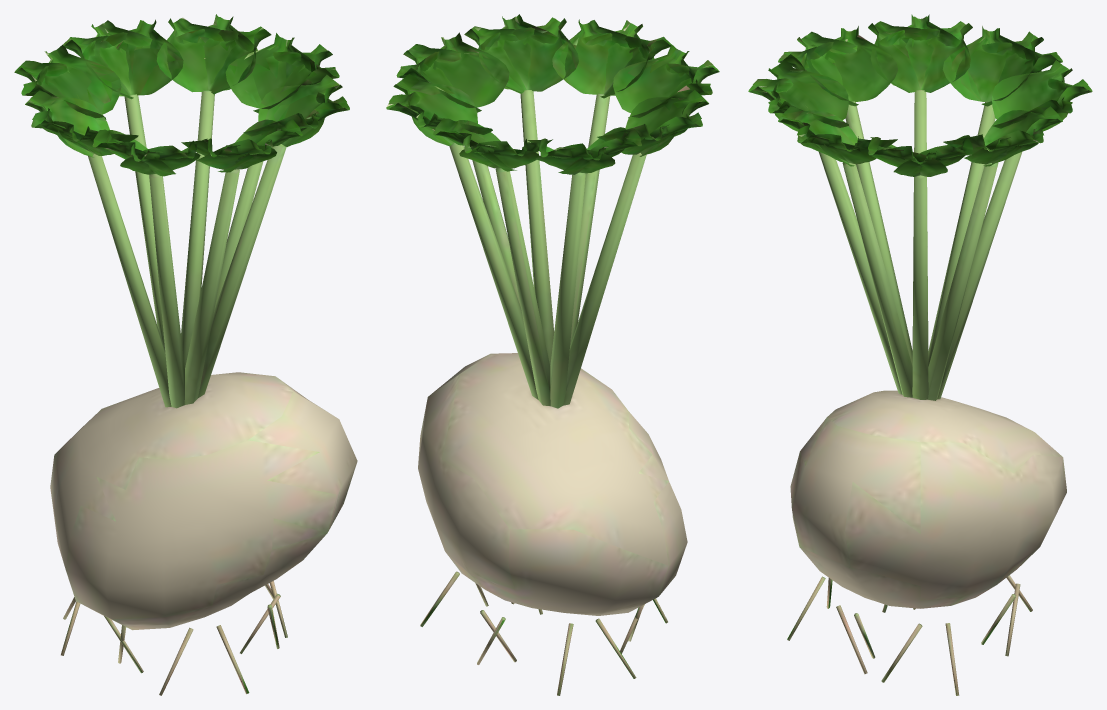
The model's file is crop_celeriac.glb.
3 renders of one model, left to right at view 1: azimuth 30°, elevation 25°; view 2: azimuth 150°, elevation 25°; view 3: azimuth 270°, elevation 25°, orthographic.
Parts seen in each view (by area): view 1: fruit, crop_celeriac; view 2: crop_celeriac, fruit; view 3: crop_celeriac, fruit.
Boxes of the visible parts, left/top/right/bottom form: fruit: left=50, top=372, right=357, bottom=630; crop_celeriac: left=14, top=14, right=349, bottom=695; crop_celeriac: left=386, top=14, right=719, bottom=695; fruit: left=418, top=353, right=687, bottom=615; crop_celeriac: left=748, top=14, right=1092, bottom=695; fruit: left=790, top=390, right=1066, bottom=608.
Size of the model in its own units: 0.1409 by 0.2535 by 0.1409.
1 material, 1 textured.
